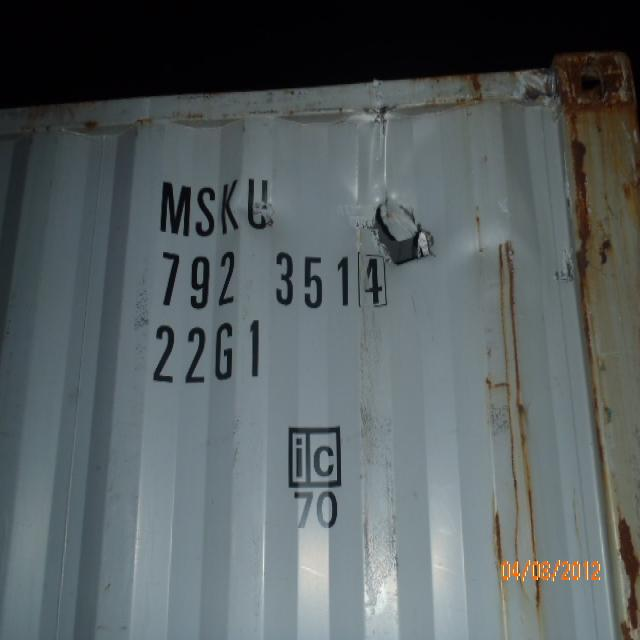hole: (365, 194, 439, 263)
